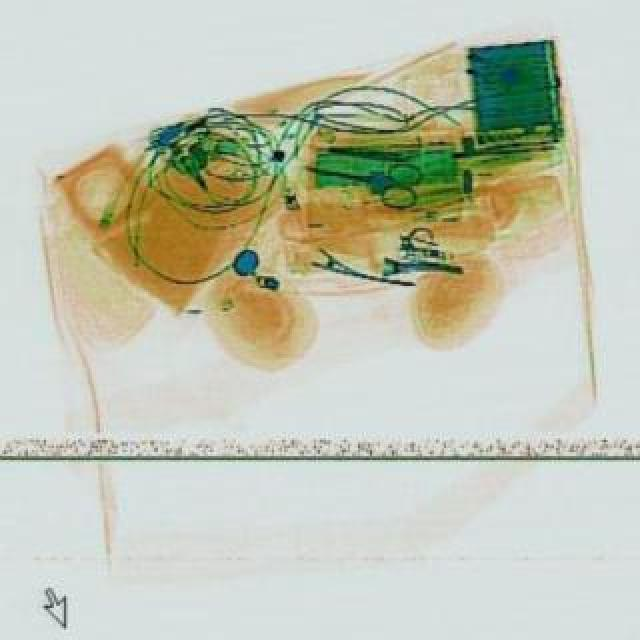pliers: (300, 148, 428, 216)
